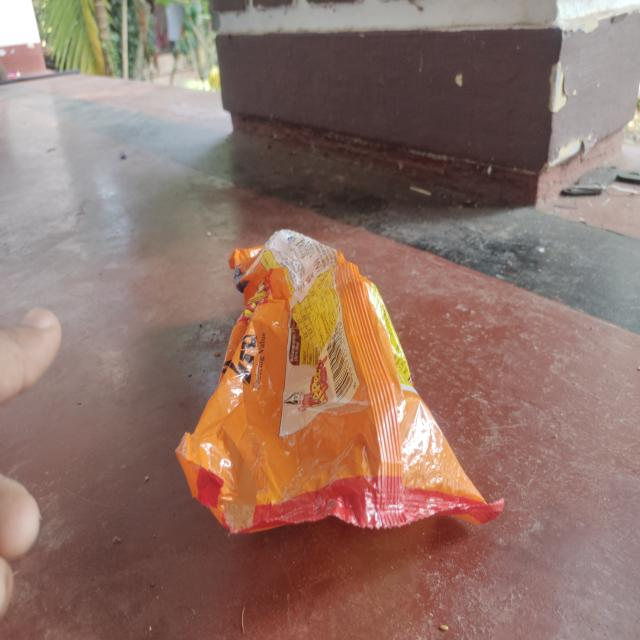plastic: (172, 225, 510, 544)
